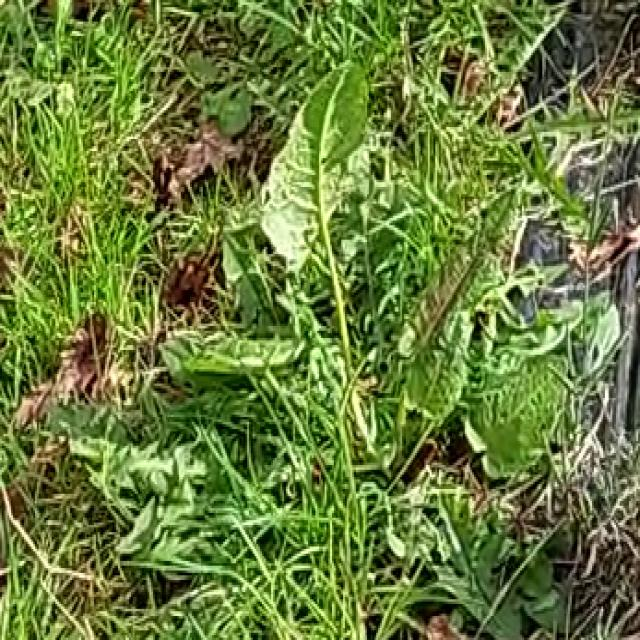organic waste: (135, 36, 555, 443)
